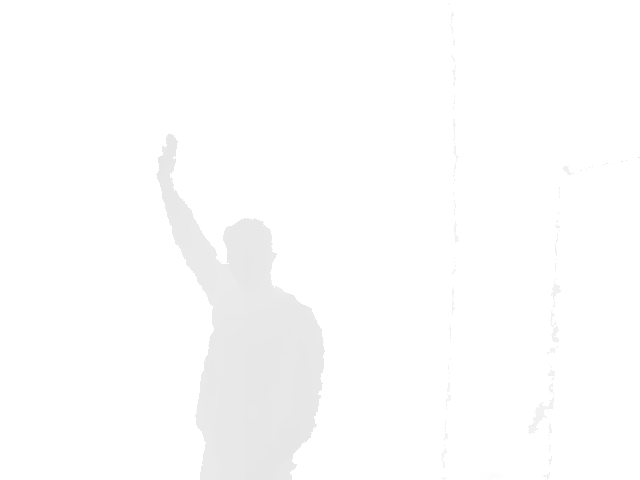hand: (156, 133, 179, 177)
head: (222, 218, 278, 290)
person: (156, 133, 326, 479)
